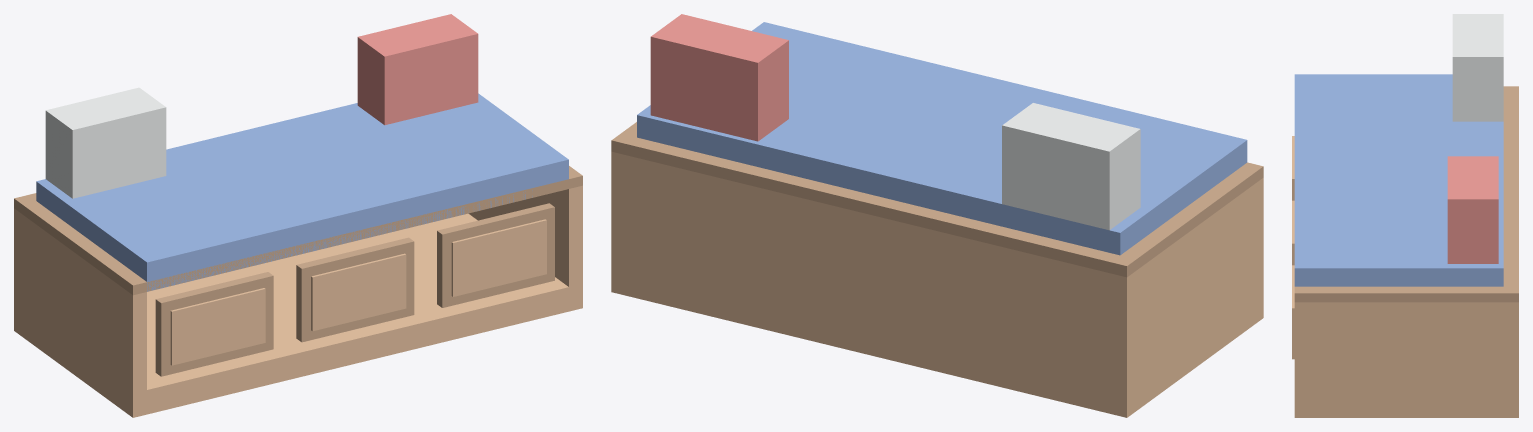
File: windowSeat.glb
3 views of the same model, side by side, from view 1: azimuth 30°, elevation 25°; view 2: azimuth 150°, elevation 25°; view 3: azimuth 270°, elevation 25° (orthographic). The views are drawn at different scales.
Parts seen in each view (by area): view 1: windowSeat; view 2: windowSeat; view 3: windowSeat.
Part boxes in pixels (x1,y1,x2,y2): windowSeat: [14, 14, 582, 417]; windowSeat: [611, 14, 1263, 417]; windowSeat: [1292, 14, 1518, 417].
Size of the model in its own units: 0.96 by 0.45 by 0.445.
